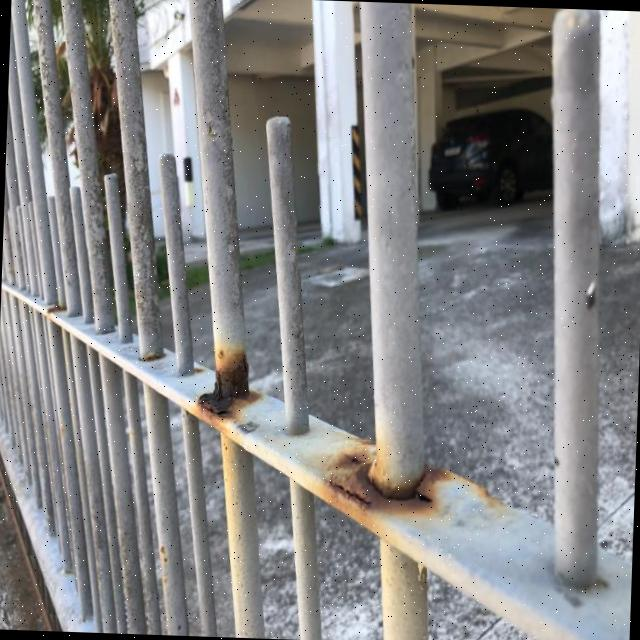Corrosion: (196, 342, 255, 414), (320, 437, 376, 506)
